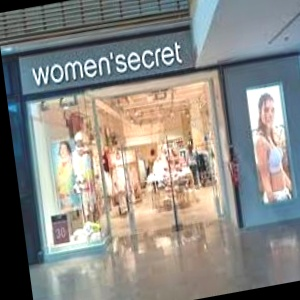women_secret: (169, 7, 198, 66)
